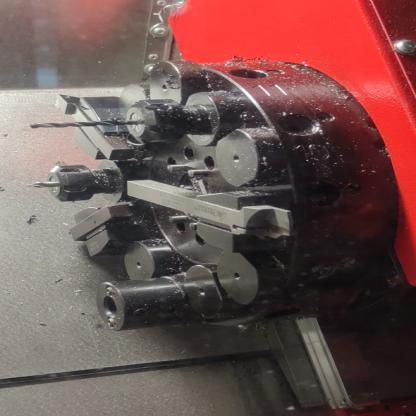bit: (118, 175, 305, 257), (45, 89, 144, 162), (61, 200, 143, 260)
